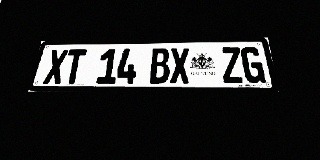1: (96, 49, 119, 84)
4: (116, 49, 138, 84)
B: (150, 48, 169, 84)
G: (240, 47, 266, 83)
T: (62, 49, 87, 84)
X: (43, 50, 68, 84), (170, 48, 190, 84)
Z: (220, 47, 244, 83)
